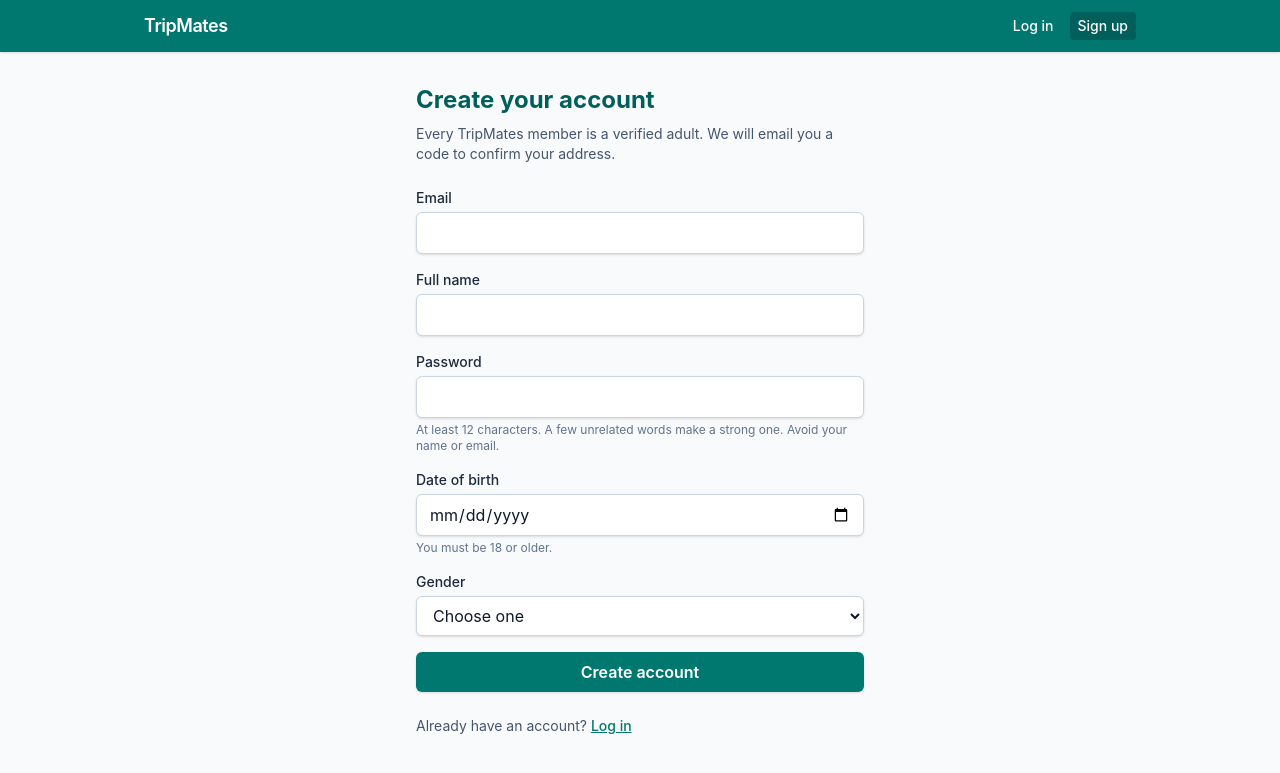
it: signup screen › shows client-side errors beside each field and sends nothing
Type "short" into the password field labelled "Password" at (640, 397), box 416,376 -> 864,418
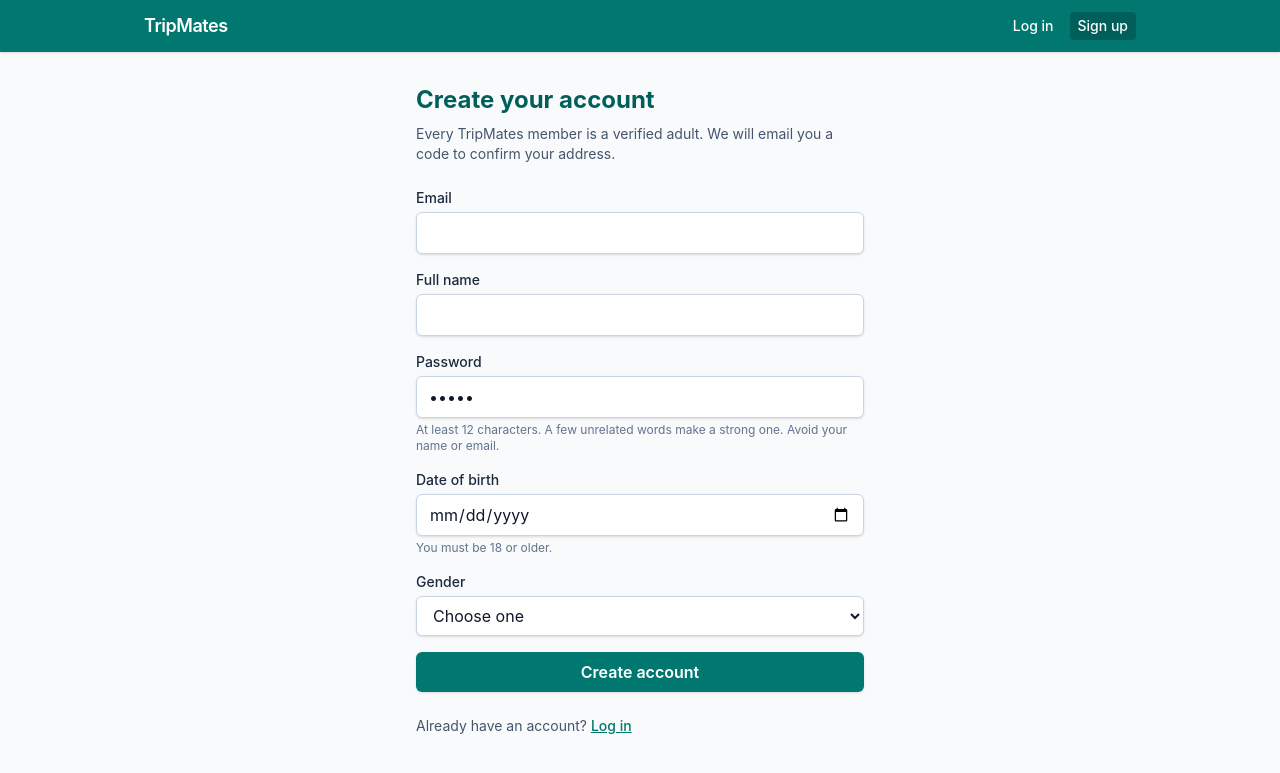
Click the button "Create account" at (640, 672), box 416,652 -> 864,692
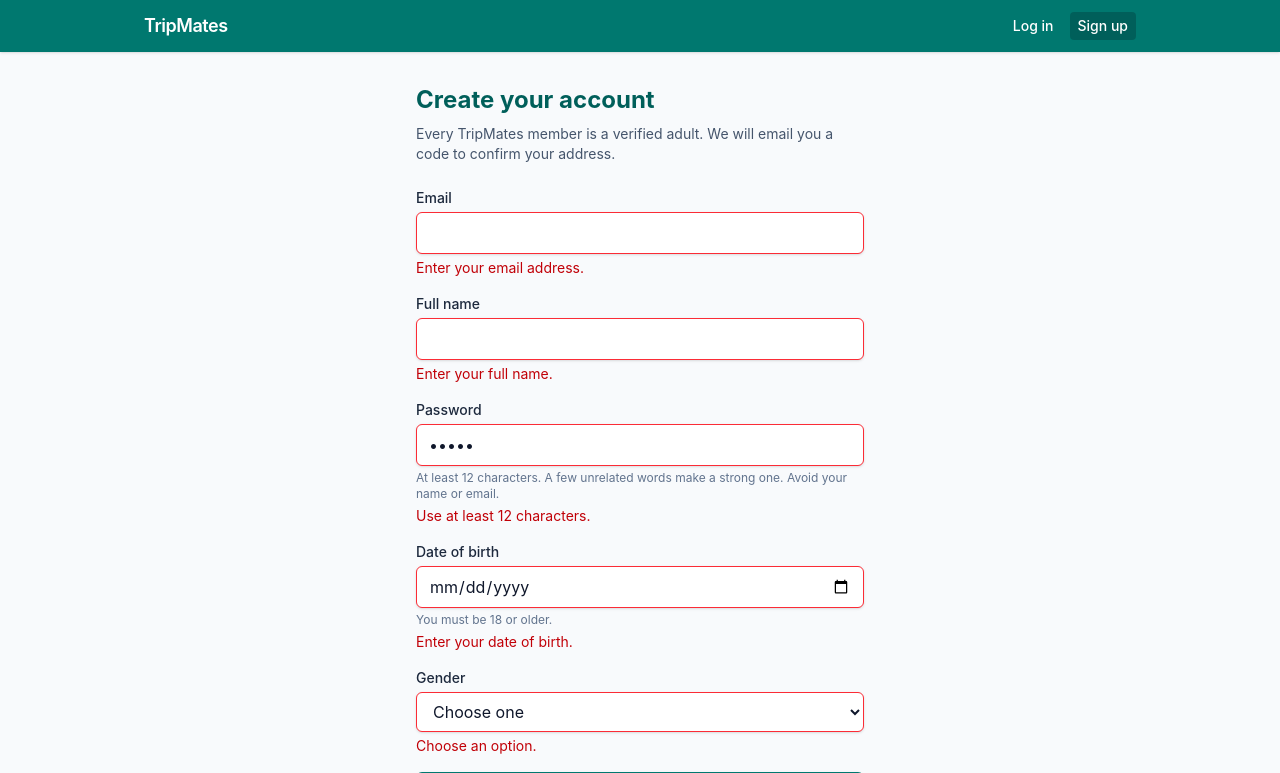
expect the text "Enter your email address." is shown: met, box 416,259 -> 584,276
expect the text "Use at least 12 characters." is shown: met, box 416,507 -> 590,524
expect the text "Choose an option." is shown: met, box 416,737 -> 536,754
